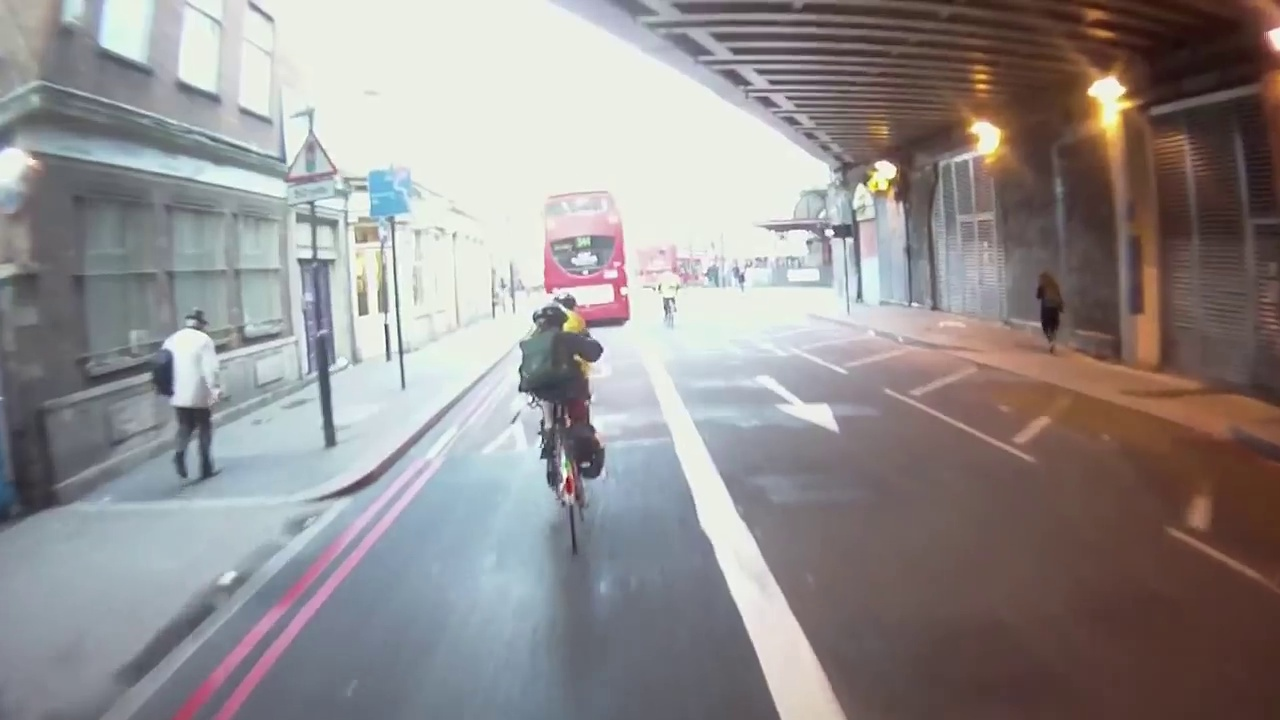cyclist_back: (522, 285, 623, 572)
